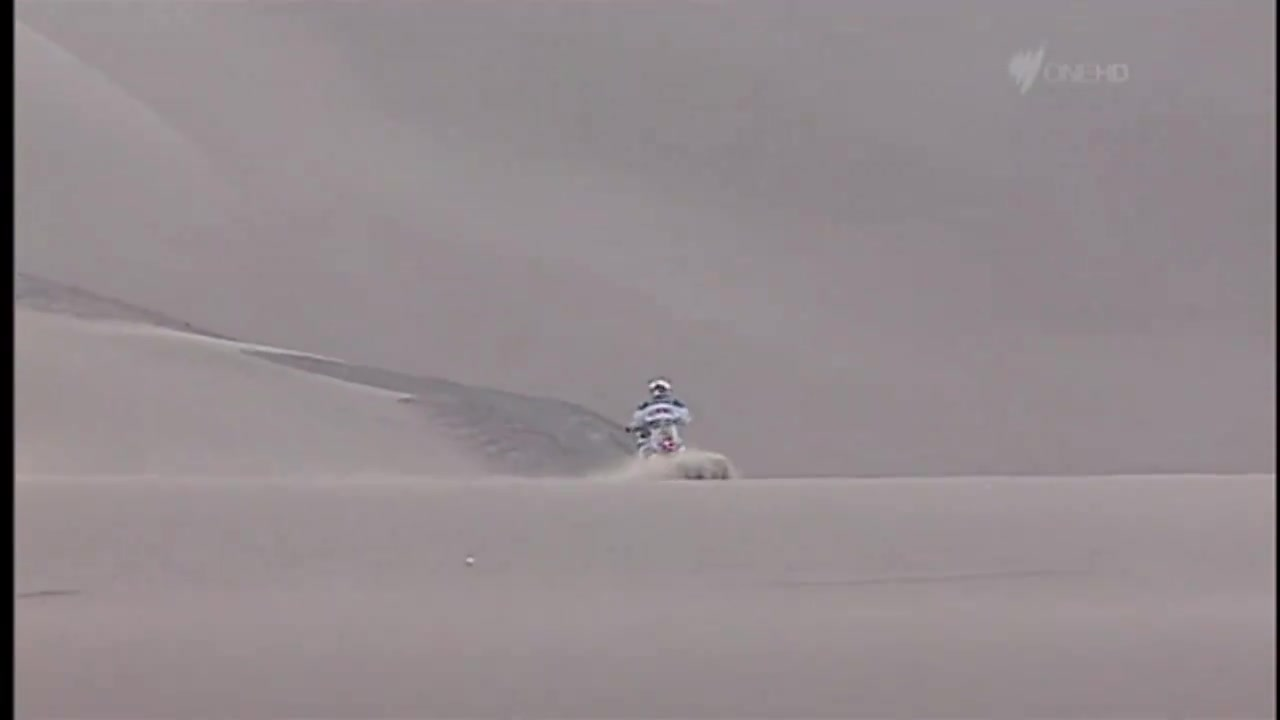motorbike: (623, 411, 693, 461)
